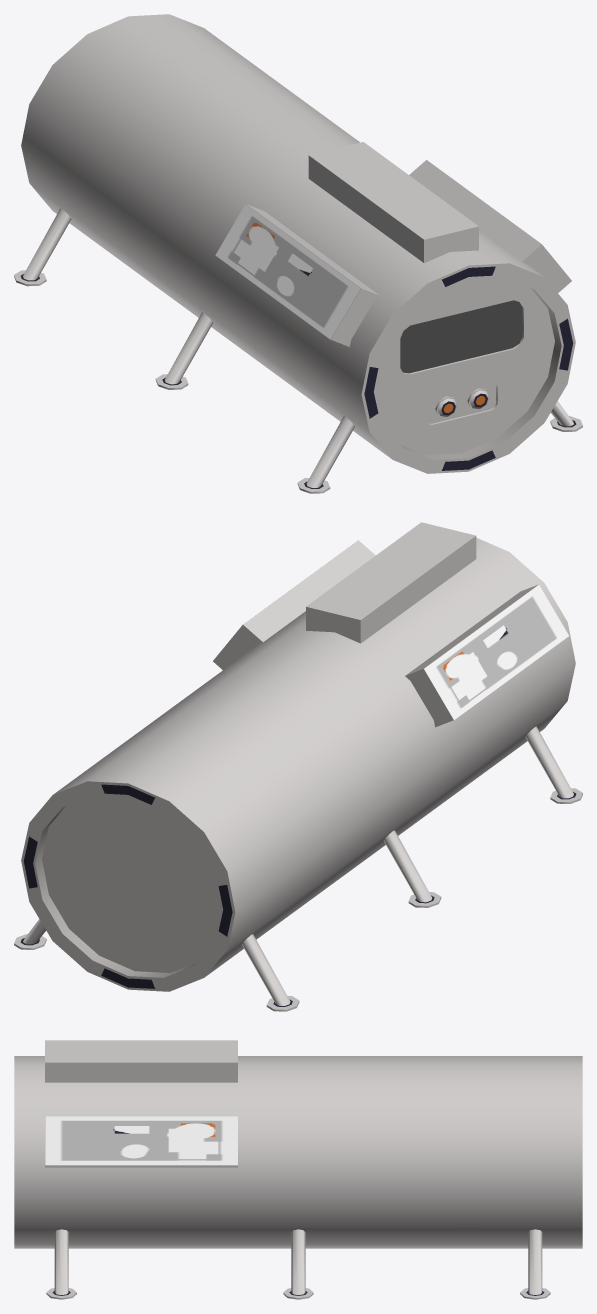
Rendered from coridor3.fbx.
The picture shows the model from 3 angles, top to bottom: view 1: azimuth 30°, elevation 25°; view 2: azimuth 150°, elevation 25°; view 3: azimuth 270°, elevation 25°; orthographic projection. The views are drawn at different scales.
Visible parts, largest first — view 1: coridor3; view 2: coridor3; view 3: coridor3.
Boxes of the visible parts, box(x1,y1,x2,y2) form: coridor3: box(14, 14, 582, 493); coridor3: box(14, 522, 582, 1011); coridor3: box(14, 1040, 582, 1299).
Bounding box in the file's own units: 3.84 × 3 × 8.07.
